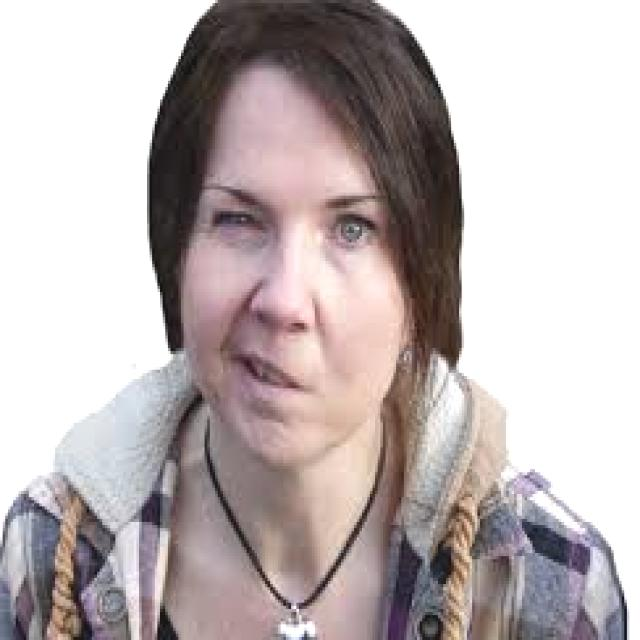stroke_face: (161, 28, 434, 474)
